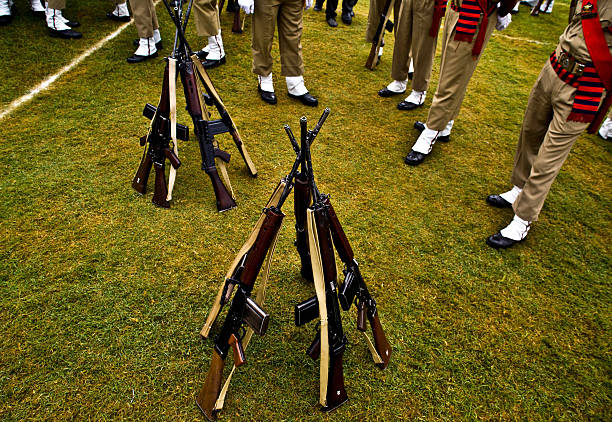rifle: (204, 151, 278, 417), (286, 113, 351, 412), (137, 17, 183, 211)
